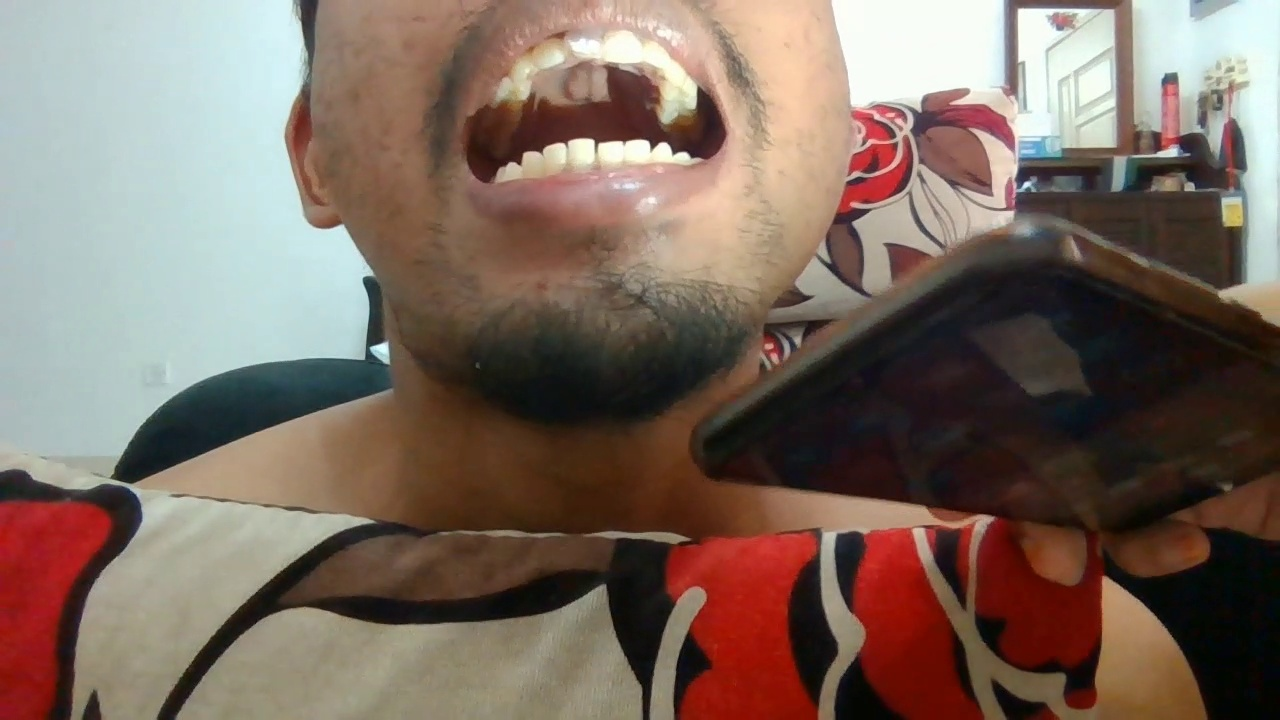1st Premolar: (660, 86, 698, 109), (496, 77, 530, 97), (503, 160, 522, 184), (674, 152, 691, 167)
Canine: (509, 53, 535, 83), (522, 150, 545, 181), (663, 62, 687, 87), (652, 140, 673, 163)
Central Incisor: (563, 29, 603, 63), (604, 32, 642, 65), (566, 137, 595, 169), (595, 138, 624, 169)
Lateral Incisor: (533, 37, 566, 67), (623, 137, 650, 169), (643, 40, 670, 70), (543, 141, 566, 175)
